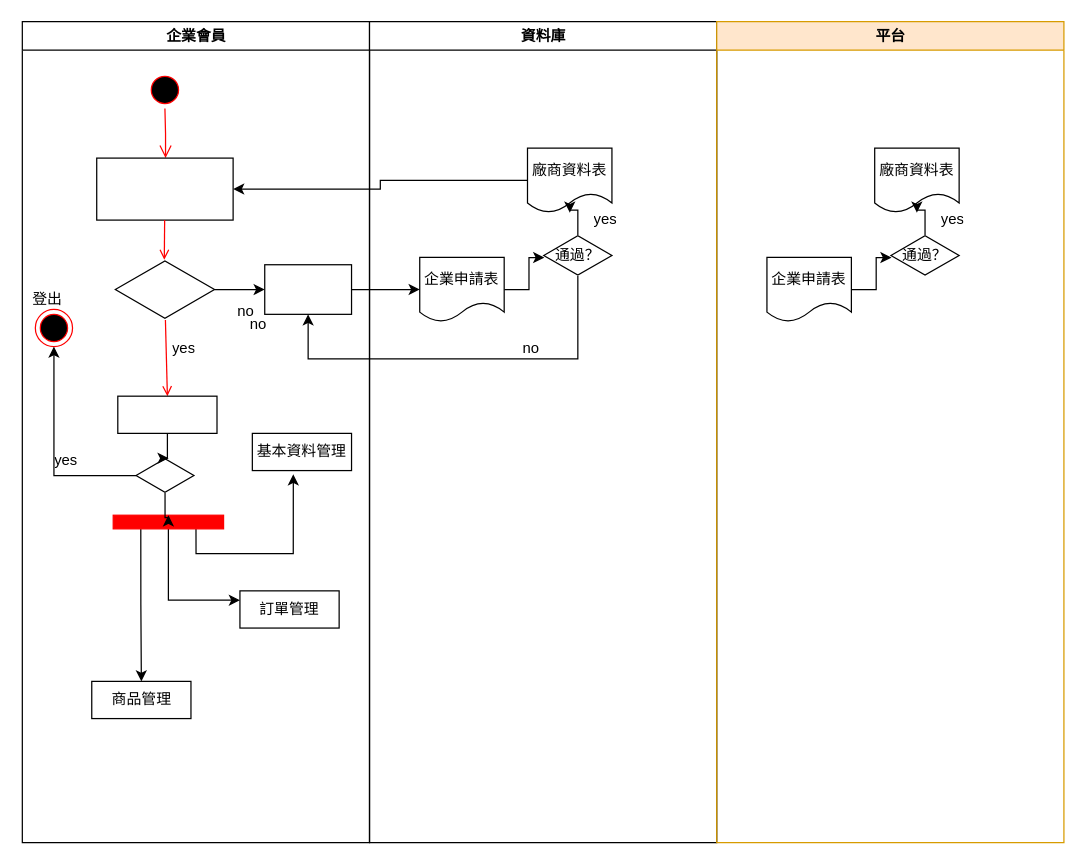
The diagram is 1085 pixels wide and 864 high, and some of its shapes have lost their labels. The shapes that lost their labels are listed below. From the top down, each one's centre as x and y in pixels, then its label:
At point 164,188: "登入".
At point 164,289: "有帳號？".
At point 308,289: "註冊系統".
At point 167,414: "會員中心".
At point 164,475: "完成？".
